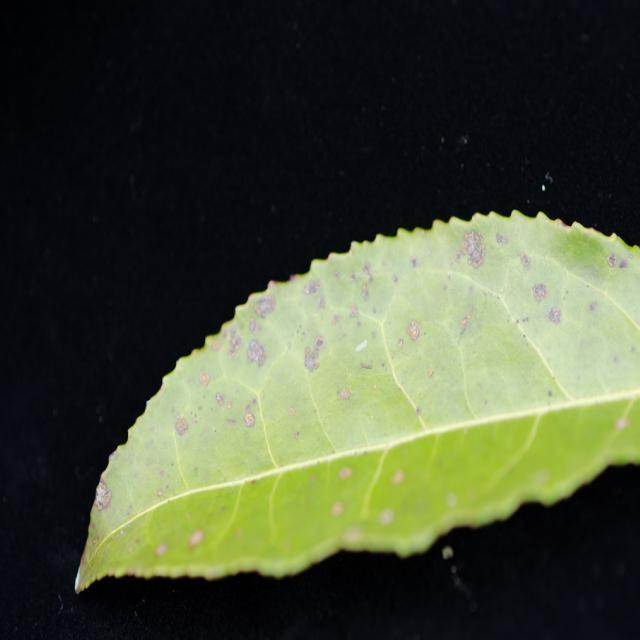Tea red rust: (95, 219, 619, 569)
